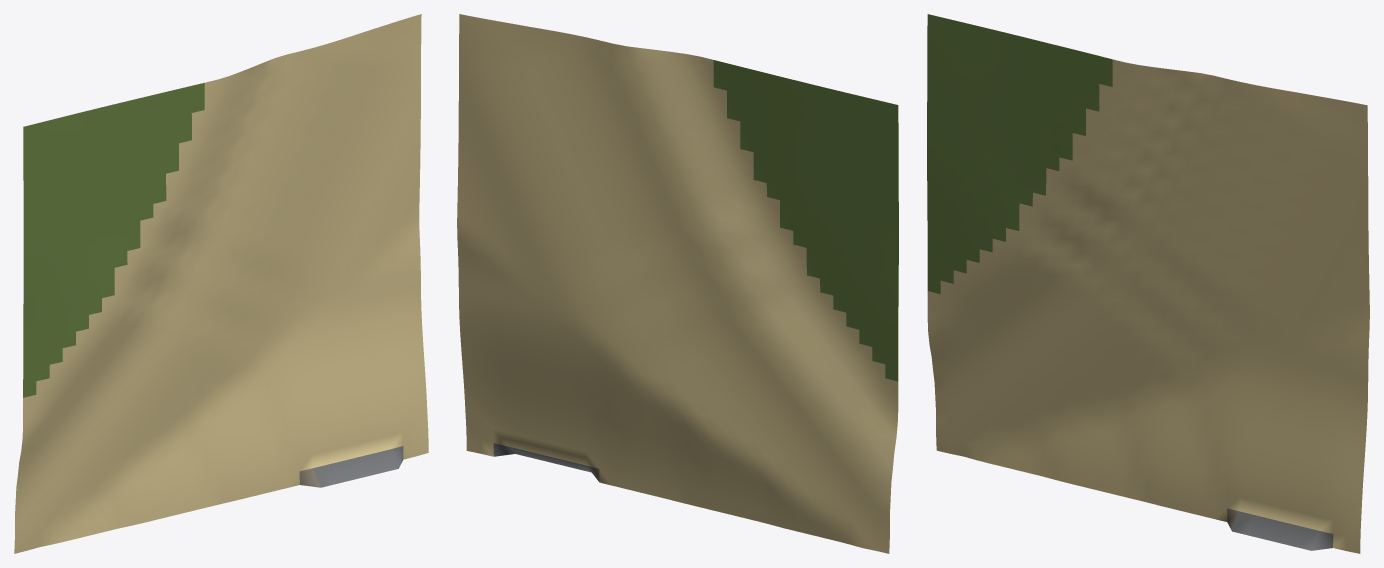
File: island_terrain_11_02.obj
3 renders of one model, left to right at view 1: azimuth 30°, elevation 25°; view 2: azimuth 150°, elevation 25°; view 3: azimuth 330°, elevation 25°, orthographic. The views are drawn at different scales.
Parts seen in each view (by area): view 1: island_terrain_11_02; view 2: island_terrain_11_02; view 3: island_terrain_11_02.
Boxes of the visible parts, box(x1,y1,x2,y2) form: island_terrain_11_02: box(14, 14, 428, 553); island_terrain_11_02: box(457, 14, 898, 553); island_terrain_11_02: box(927, 14, 1369, 553).
Bounding box in the file's own units: 256 × 256 × 20.79.
